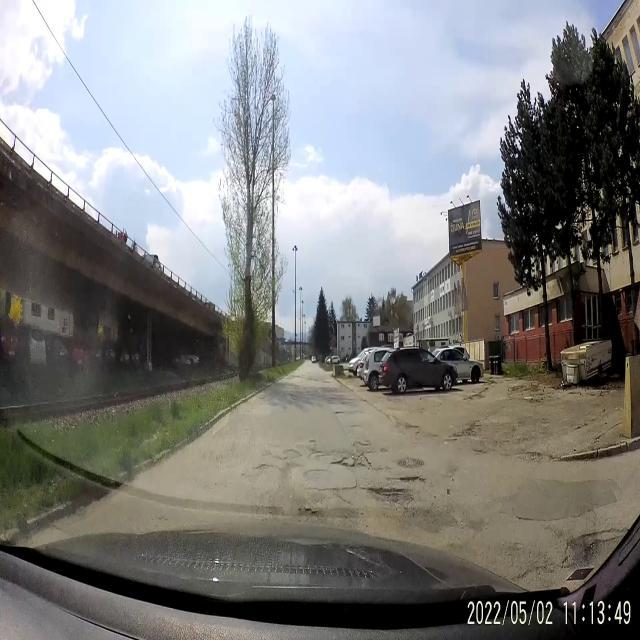Manhole: (396, 454, 426, 470), (314, 449, 342, 465)
Pothole: (364, 476, 412, 508), (396, 469, 426, 491), (342, 452, 374, 472), (296, 500, 320, 522), (252, 459, 276, 479), (281, 448, 303, 461), (353, 438, 371, 448)
